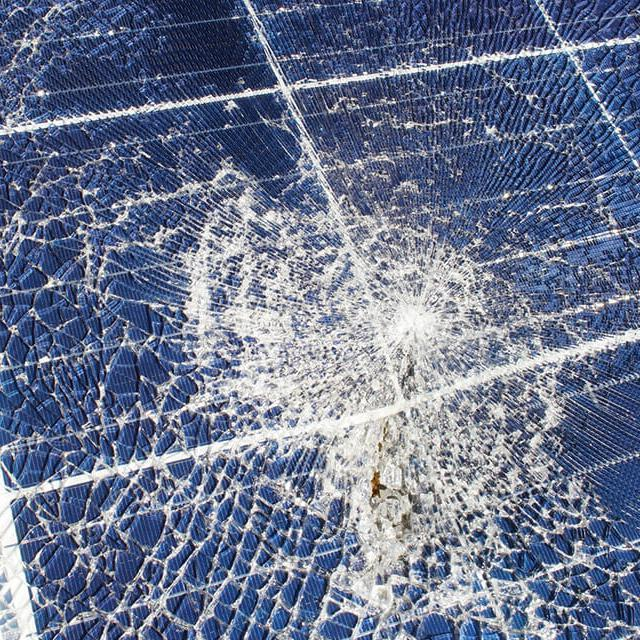Anomaly Solar Panel: (0, 0, 2, 319)
Structural Damage: (182, 129, 640, 554), (7, 135, 179, 640), (182, 554, 640, 640)
